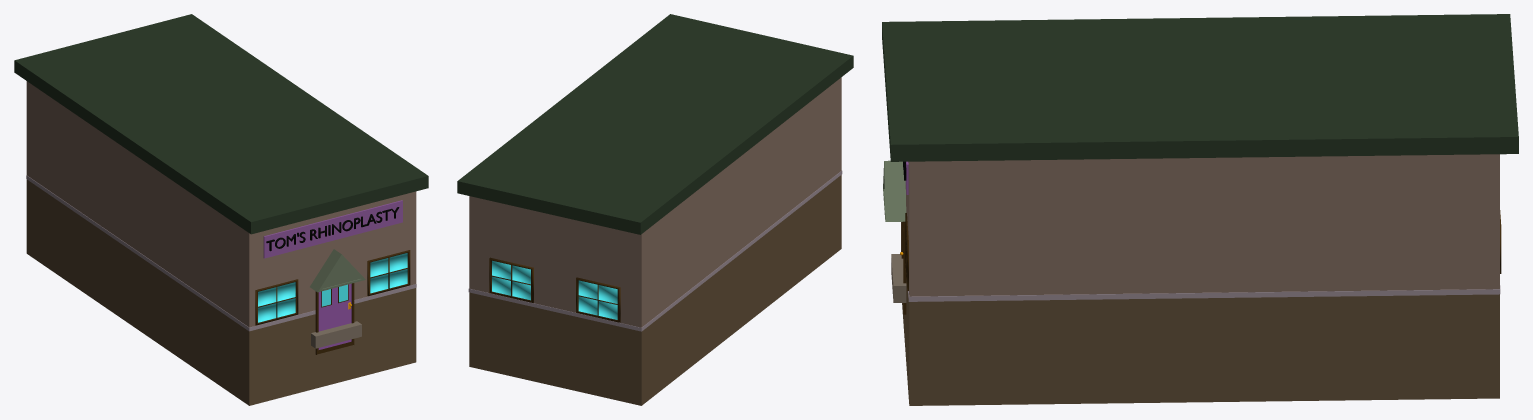
Rendered from tomsrhinoplasty_compressed.glb.
3 renders of one model, left to right at view 1: azimuth 30°, elevation 25°; view 2: azimuth 150°, elevation 25°; view 3: azimuth 270°, elevation 25°, orthographic. The views are drawn at different scales.
Parts seen in each view (by area): view 1: Cube.323, Cube.324, Cube.327, Cube.326, Cube.325, Text.009; view 2: Cube.323, Cube.324; view 3: Cube.323, Cube.326, Cube.325, Cube.324.
Part boxes in pixels (<box>): Cube.323: <box>14,14,428,405</box>; Cube.324: <box>255,250,410,354</box>; Cube.327: <box>263,200,402,258</box>; Cube.326: <box>310,249,365,292</box>; Cube.325: <box>311,321,361,348</box>; Text.009: <box>266,207,399,251</box>; Cube.323: <box>457,14,853,405</box>; Cube.324: <box>489,257,620,322</box>; Cube.323: <box>882,14,1518,405</box>; Cube.326: <box>883,160,906,221</box>; Cube.325: <box>891,254,906,302</box>; Cube.324: <box>901,210,1501,314</box>.
Size of the model in its own units: 1.68 by 1.59 by 3.46.
